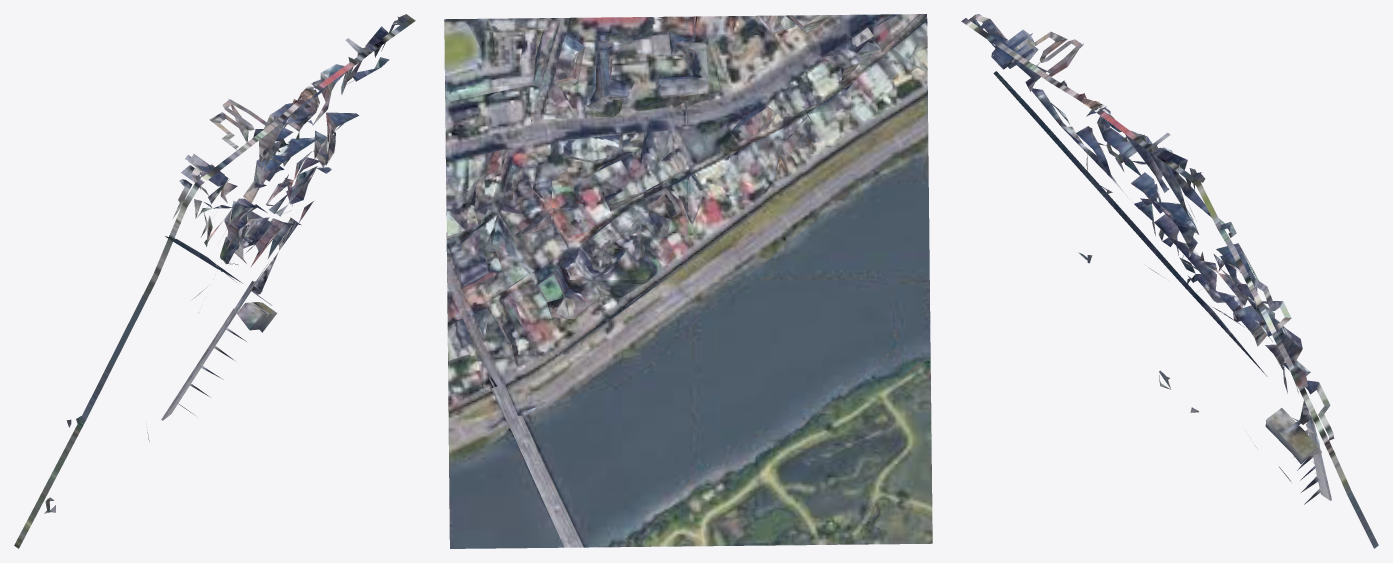
The picture shows the model from 3 angles, left to right: view 1: azimuth 30°, elevation 25°; view 2: azimuth 150°, elevation 25°; view 3: azimuth 270°, elevation 25°; orthographic projection. The views are drawn at different scales.
Bounding box in the file's own units: 611 × 583 × 511.
2 materials, 2 textured.
